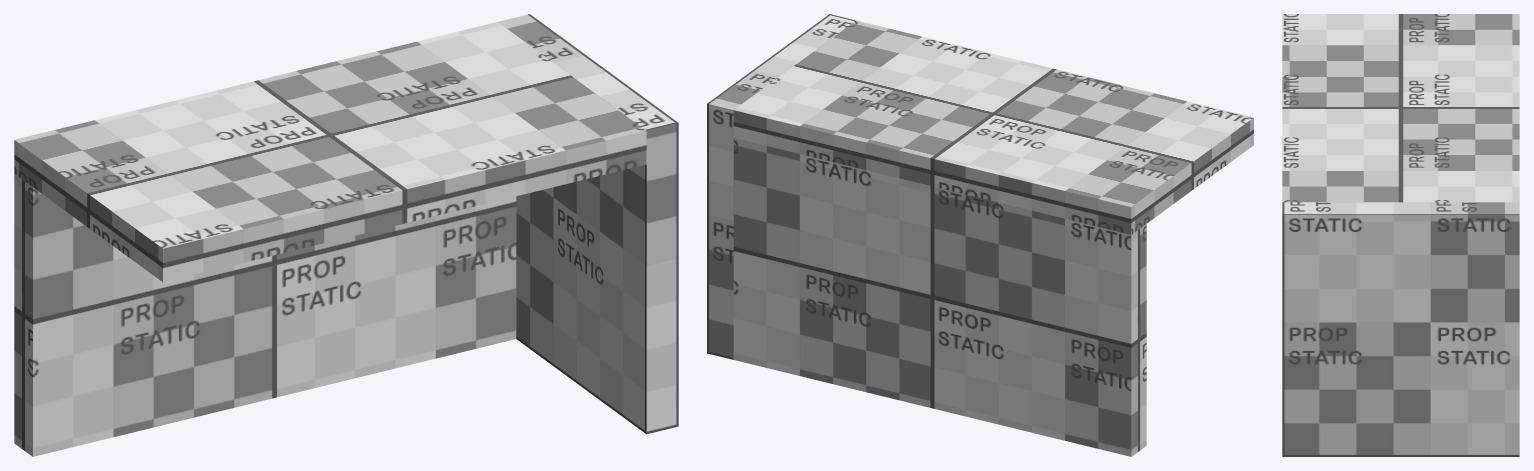
File: JMB_Desk_R.fbx
3 renders of one model, left to right at view 1: azimuth 30°, elevation 25°; view 2: azimuth 150°, elevation 25°; view 3: azimuth 270°, elevation 25°, orthographic. The views are drawn at different scales.
Parts seen in each view (by area): view 1: Desk_Top, Desk_Front, Desk_Side; view 2: Desk_Front, Desk_Top, Desk_Side; view 3: Desk_Side, Desk_Top.
Part boxes in pixels (box(x1,y1,x2,y2)): Desk_Top: box(14, 22, 646, 282); Desk_Front: box(14, 174, 516, 456); Desk_Side: box(498, 14, 678, 434); Desk_Front: box(733, 138, 1146, 456); Desk_Top: box(733, 20, 1253, 234); Desk_Side: box(707, 14, 855, 359); Desk_Side: box(1282, 202, 1519, 456); Desk_Top: box(1282, 14, 1519, 202).
Size of the model in its own units: 160 by 90 by 80.
